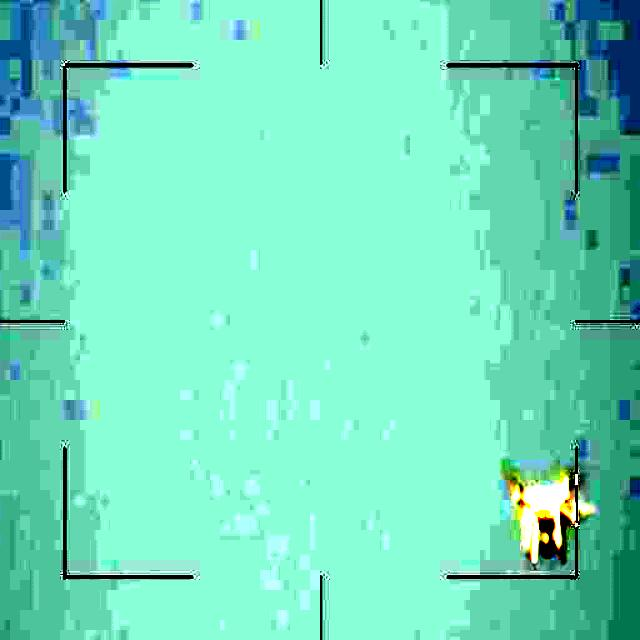bird: (505, 476, 592, 570)
